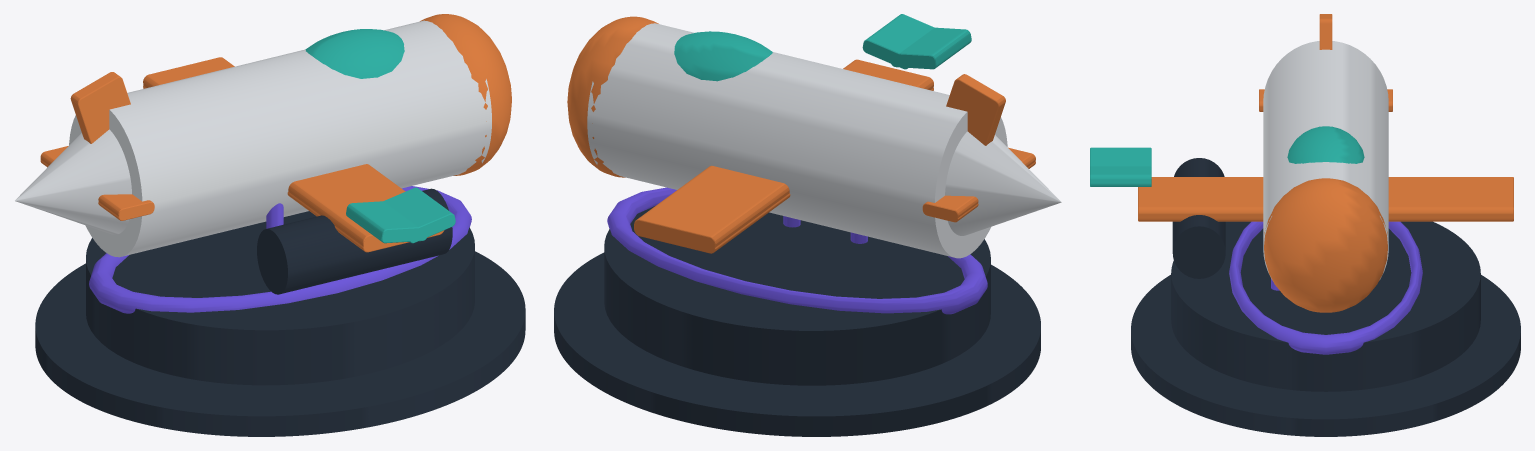
Rendered from 0360_航空航天图鉴_神舟飞船.glb.
3 views of the same model, side by side, from view 1: azimuth 30°, elevation 25°; view 2: azimuth 150°, elevation 25°; view 3: azimuth 270°, elevation 25° (orthographic). The views are drawn at different scales.
Parts seen in each view (by area): view 1: card_0360; view 2: card_0360; view 3: card_0360.
Boxes of the visible parts, <box> form: card_0360: <box>15,14,525,436</box>; card_0360: <box>554,14,1061,436</box>; card_0360: <box>1090,14,1520,436</box>.
Size of the model in its own units: 1.67 by 1 by 1.51.
